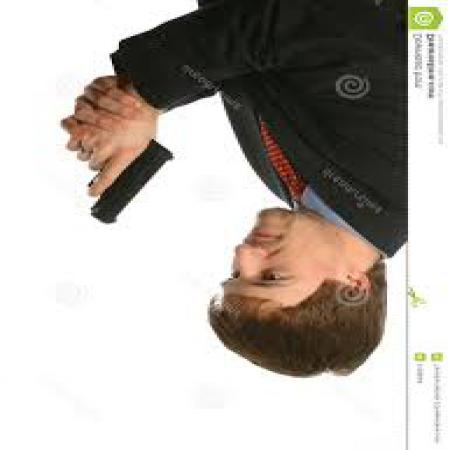Pistol: (68, 130, 172, 230)
